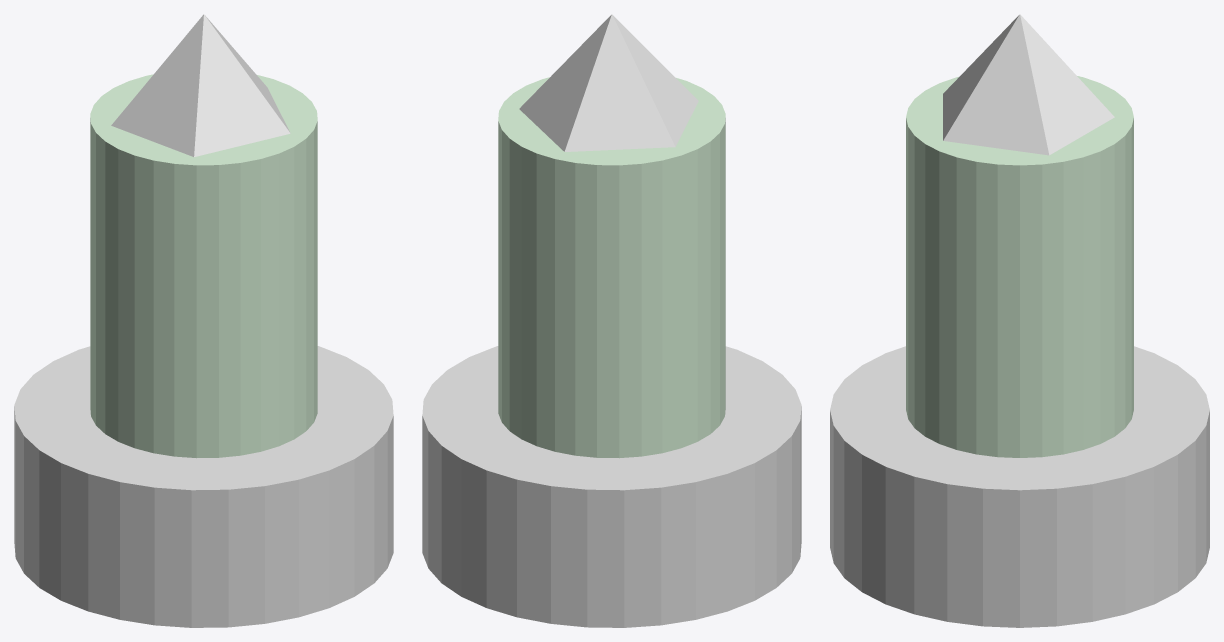
File: growth_elixir.glb
The picture shows the model from 3 angles, left to right: view 1: azimuth 30°, elevation 25°; view 2: azimuth 150°, elevation 25°; view 3: azimuth 270°, elevation 25°; orthographic projection.
Parts seen in each view (by area): view 1: Cylinder.001, Cylinder, Cone; view 2: Cylinder.001, Cylinder, Cone; view 3: Cylinder.001, Cylinder, Cone.
Part boxes in pixels (<box>): Cylinder.001: <box>14,346,393,627</box>; Cylinder: <box>90,74,317,458</box>; Cone: <box>111,14,290,156</box>; Cylinder.001: <box>422,346,801,627</box>; Cylinder: <box>498,77,725,458</box>; Cone: <box>519,14,698,151</box>; Cylinder.001: <box>830,346,1209,627</box>; Cylinder: <box>906,76,1133,457</box>; Cone: <box>943,14,1114,155</box>.
Bounding box in the file's own units: 0.2 × 0.31 × 0.2.
